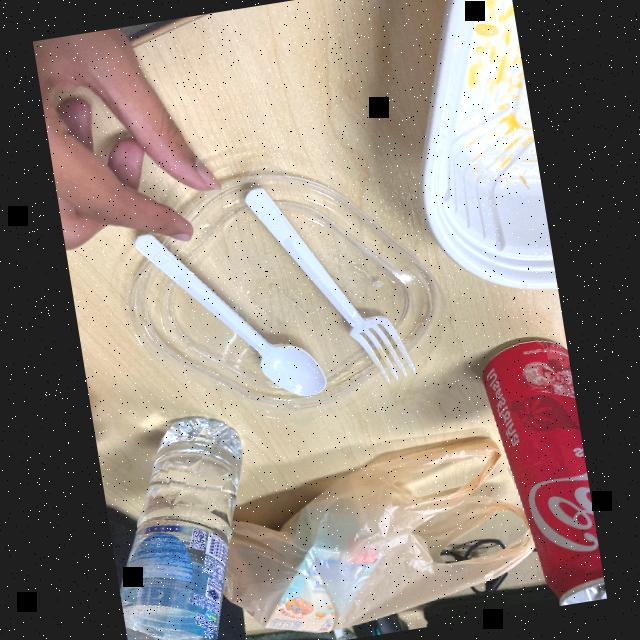plastic_cultery: (128, 208, 336, 434), (230, 169, 416, 405)
